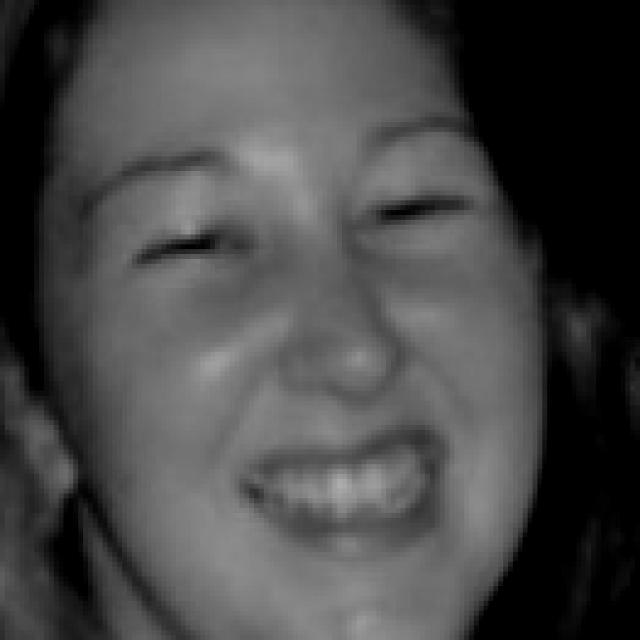real: (38, 7, 552, 624), (96, 162, 502, 280)
